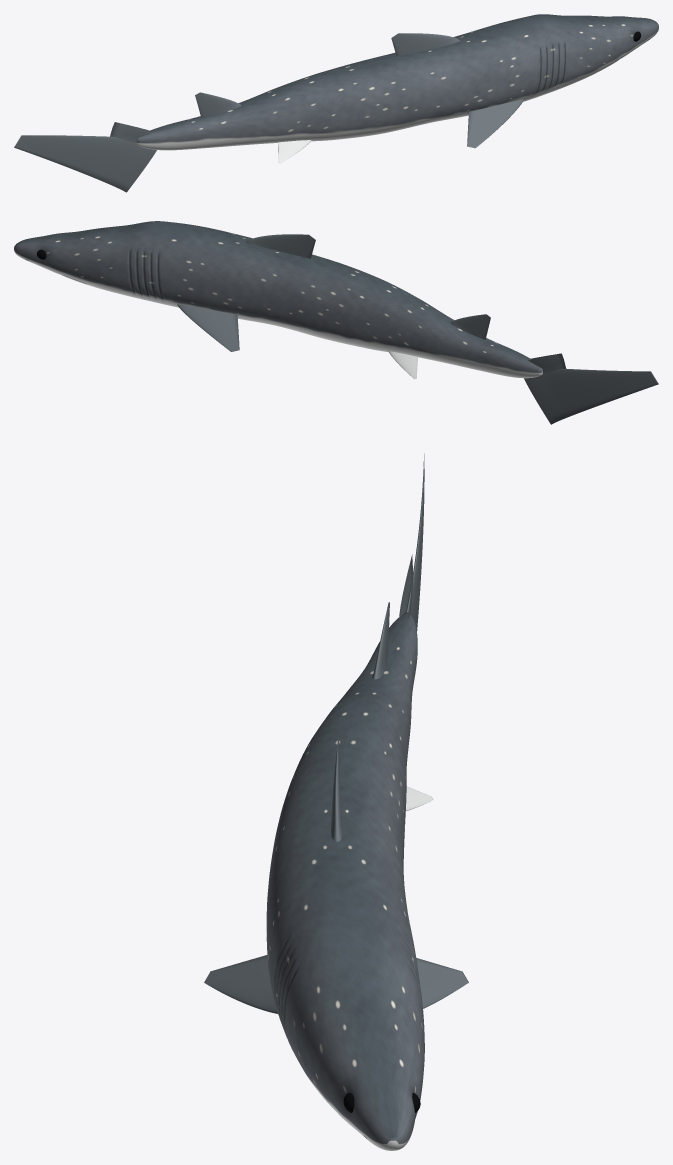
Rendered from spiny_dogfish.glb.
3 renders of one model, top to bottom at view 1: azimuth 30°, elevation 25°; view 2: azimuth 150°, elevation 25°; view 3: azimuth 270°, elevation 25°, orthographic. The views are drawn at different scales.
Visible parts, largest first — view 1: SpinyDogfish_Body, SpinyDogfish_Fins; view 2: SpinyDogfish_Body, SpinyDogfish_Fins; view 3: SpinyDogfish_Body, SpinyDogfish_Fins.
Boxes of the visible parts, bbox=[...] form: SpinyDogfish_Body: bbox=[136, 14, 658, 150]; SpinyDogfish_Fins: bbox=[14, 33, 524, 192]; SpinyDogfish_Body: bbox=[14, 221, 542, 378]; SpinyDogfish_Fins: bbox=[177, 234, 658, 424]; SpinyDogfish_Body: bbox=[266, 612, 424, 1150]; SpinyDogfish_Fins: bbox=[204, 453, 468, 1013].
Size of the model in its own units: 1 by 0.1659 by 0.1804.
3 materials, 1 textured.
